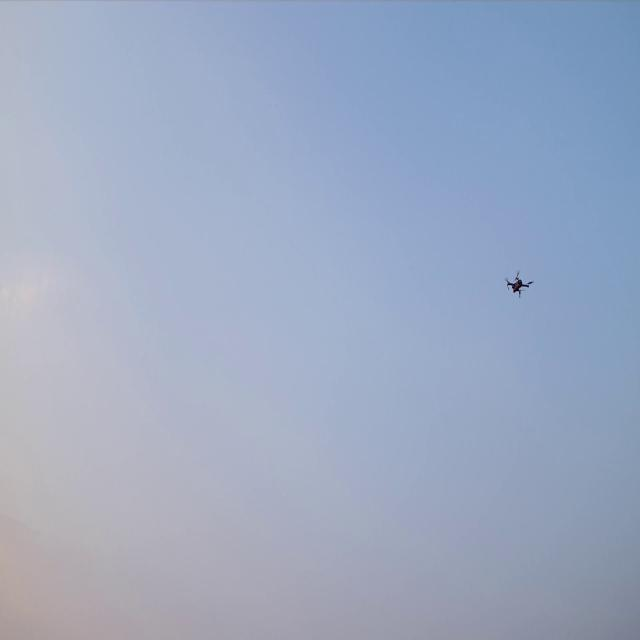UAV: (503, 268, 534, 299)
